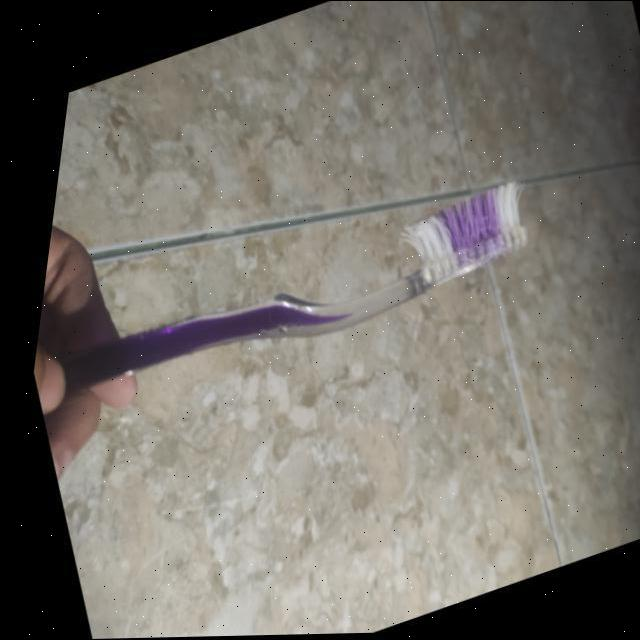toothbrush: (18, 152, 550, 448)
